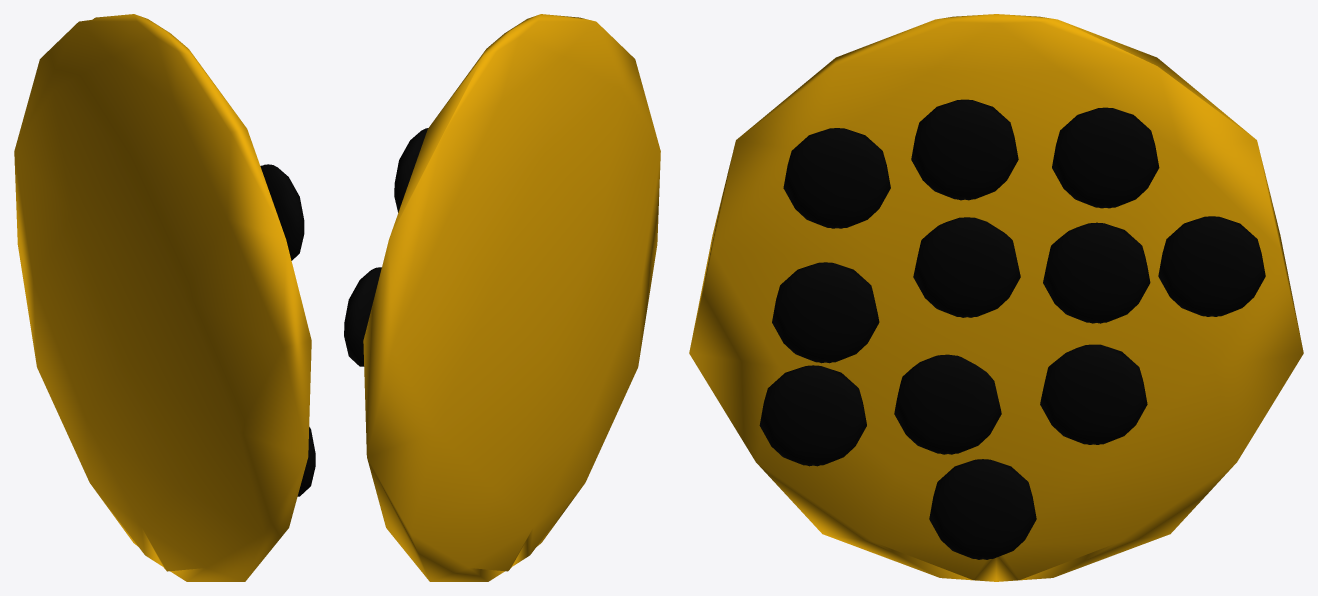
File: cookie_performance.fbx
3 views of the same model, side by side, from view 1: azimuth 30°, elevation 25°; view 2: azimuth 150°, elevation 25°; view 3: azimuth 270°, elevation 25° (orthographic). The views are drawn at different scales.
Visible parts, largest first — view 1: base; view 2: base; view 3: base.
Part boxes in pixels (<box>): base: <box>14,14,315,581</box>; base: <box>344,14,660,581</box>; base: <box>689,14,1303,581</box>.
Size of the model in its own units: 35.54 by 200 by 196.
